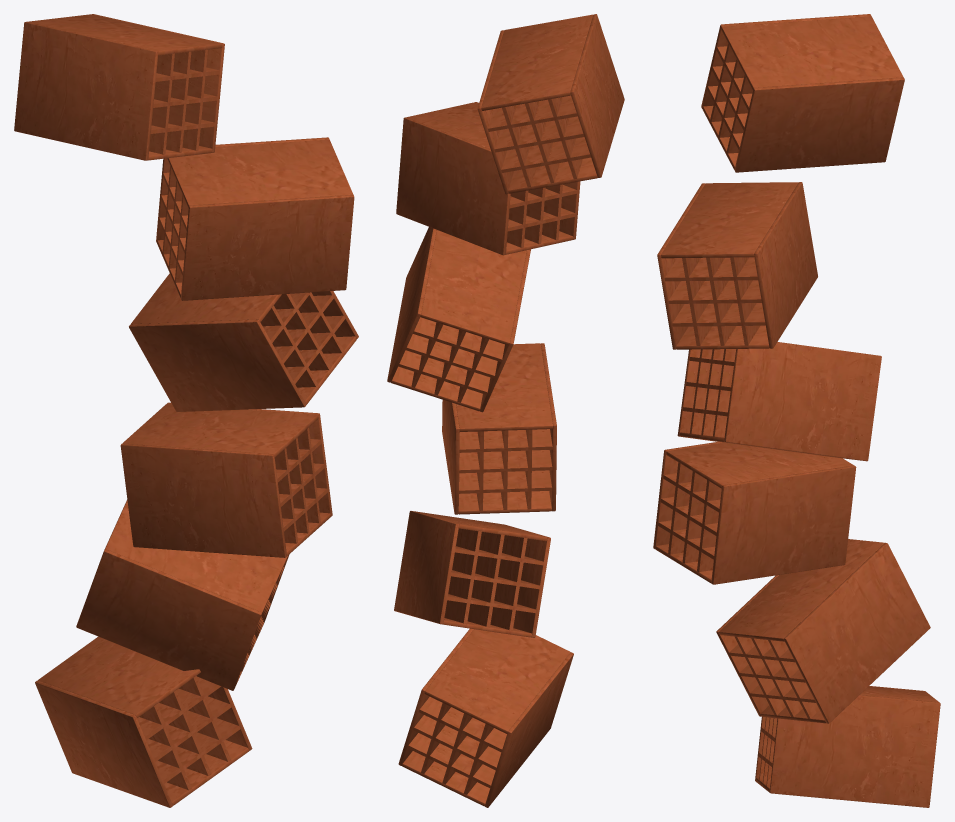
Rendered from ALV-BLC-005_anim.glb.
The picture shows the model from 3 angles, left to right: view 1: azimuth 30°, elevation 25°; view 2: azimuth 150°, elevation 25°; view 3: azimuth 270°, elevation 25°; orthographic projection. The views are drawn at different scales.
Visible parts, largest first — view 1: ALV-BLC-005_anim4, ALV-BLC-005_anim2, ALV-BLC-005_anim5, ALV-BLC-005_anim0, ALV-BLC-005_anim3, ALV-BLC-005_anim1; view 2: ALV-BLC-005_anim5, ALV-BLC-005_anim0, ALV-BLC-005_anim3, ALV-BLC-005_anim4, ALV-BLC-005_anim1, ALV-BLC-005_anim2; view 3: ALV-BLC-005_anim5, ALV-BLC-005_anim1, ALV-BLC-005_anim2, ALV-BLC-005_anim4, ALV-BLC-005_anim3, ALV-BLC-005_anim0.
Boxes of the visible parts, x1=… form: ALV-BLC-005_anim4: x1=156, y1=137, x2=354, y2=300; ALV-BLC-005_anim2: x1=120, y1=402, x2=332, y2=557; ALV-BLC-005_anim5: x1=14, y1=14, x2=224, y2=160; ALV-BLC-005_anim0: x1=35, y1=636, x2=252, y2=807; ALV-BLC-005_anim3: x1=129, y1=273, x2=358, y2=411; ALV-BLC-005_anim1: x1=76, y1=500, x2=289, y2=690; ALV-BLC-005_anim5: x1=477, y1=14, x2=624, y2=194; ALV-BLC-005_anim0: x1=398, y1=628, x2=573, y2=807; ALV-BLC-005_anim3: x1=387, y1=227, x2=530, y2=412; ALV-BLC-005_anim4: x1=396, y1=102, x2=580, y2=255; ALV-BLC-005_anim1: x1=394, y1=511, x2=550, y2=637; ALV-BLC-005_anim2: x1=442, y1=343, x2=556, y2=514; ALV-BLC-005_anim5: x1=701, y1=14, x2=904, y2=172; ALV-BLC-005_anim1: x1=716, y1=539, x2=930, y2=723; ALV-BLC-005_anim2: x1=653, y1=442, x2=856, y2=584; ALV-BLC-005_anim4: x1=657, y1=182, x2=817, y2=349; ALV-BLC-005_anim3: x1=677, y1=342, x2=881, y2=461; ALV-BLC-005_anim0: x1=755, y1=686, x2=940, y2=807.
Bounding box in the file's own units: 0.5489 × 1.5 × 0.5133.
Materials: 1 (1 with a texture image).
